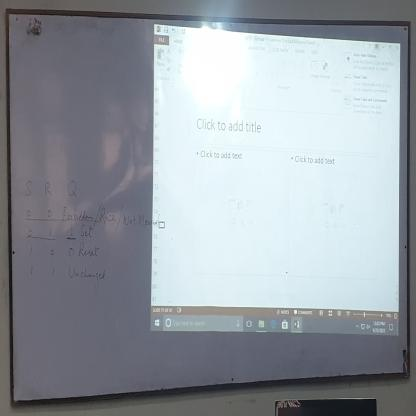Handwritten text: (24, 177, 78, 203), (66, 263, 108, 291), (123, 210, 162, 231), (62, 203, 94, 225), (77, 241, 100, 264), (99, 205, 118, 228), (80, 224, 94, 240)
Whiteboard: (5, 10, 410, 407)
